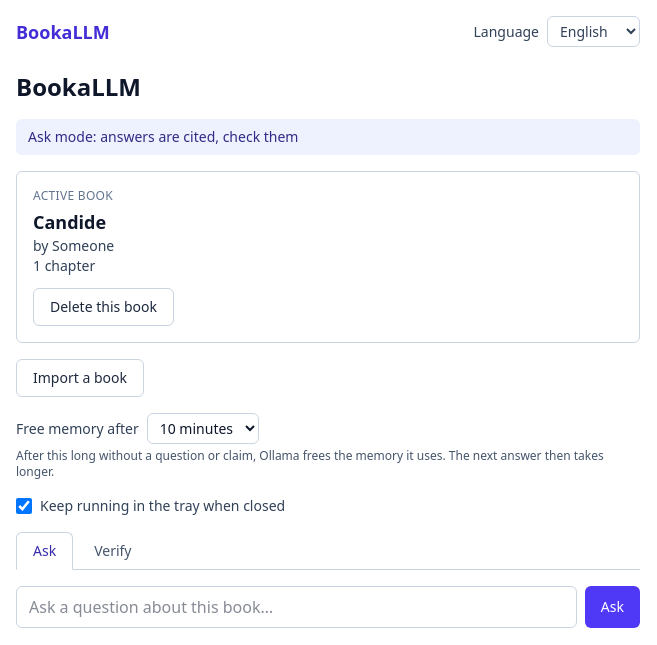
Test case: the app shell › switches every visible text at once when the language control changes
The width and height of the screenshot is (657, 645).
Expected: the text "Ask mode: answers are cited, check them" is shown, top-left (16, 119), bottom-right (640, 155)
Select "Français" in the dropdown labelled "Language" at coordinates (594, 32), box top-left (547, 16), bottom-right (640, 47)
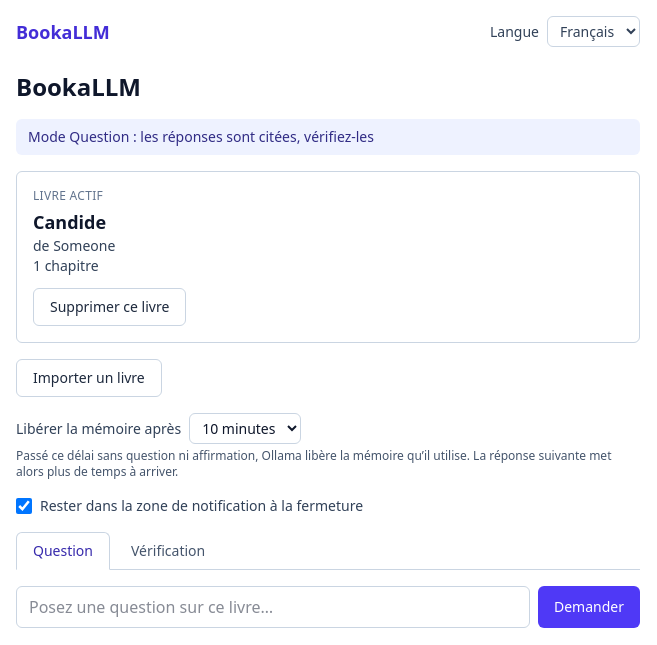
Now the text "Mode Question : les réponses sont citées, vérifiez-les" is shown, box top-left (16, 119), bottom-right (640, 155)
Now the text "Ask mode: answers are cited, check them" is gone
